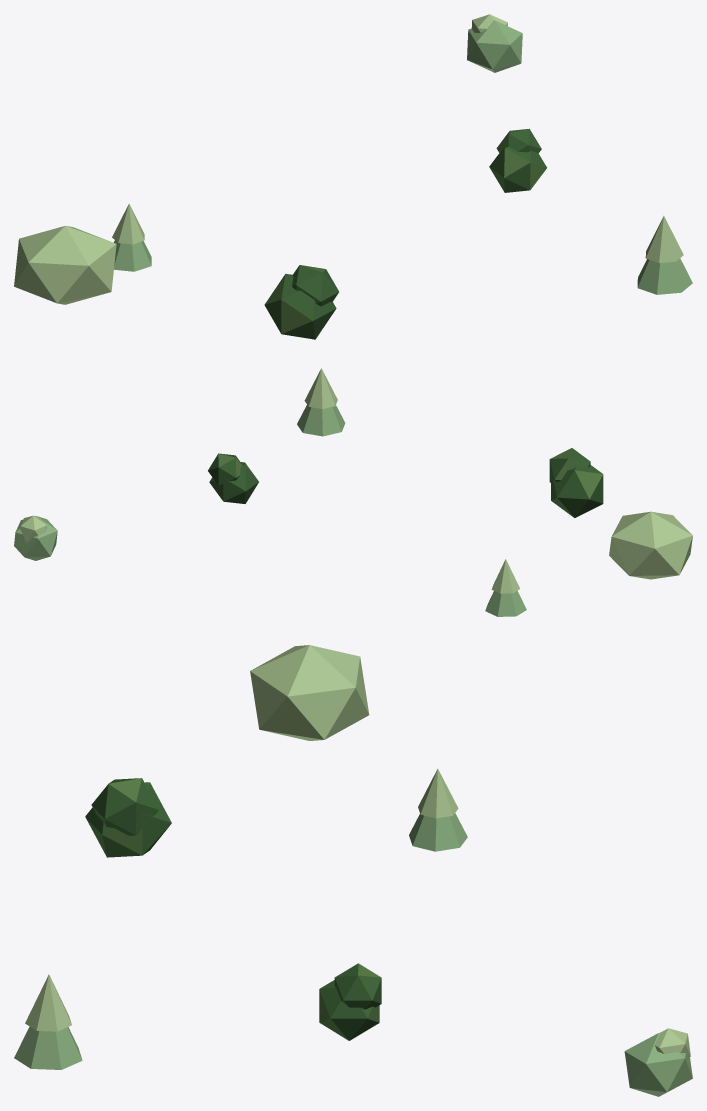
The model's file is side_wardens_clearing_wind_canopies.fbx.
The picture shows the model from 3 angles, top to bottom: view 1: azimuth 30°, elevation 25°; view 2: azimuth 150°, elevation 25°; view 3: azimuth 270°, elevation 25°; orthographic projection. The views are drawn at different scales.
Parts seen in each view (by area): view 1: chunk_side_wardens_clearing__tree_canopy_01, chunk_side_wardens_clearing__detail_scatter_tree_02_canopy, chunk_side_wardens_clearing__detail_scatter_tree_01_canopy, chunk_side_wardens_clearing__tree_canopy_07, chunk_side_wardens_clearing__tree_canopy_04, chunk_side_wardens_clearing__tree_canopy_05, chunk_side_wardens_clearing__tree_canopy_03, chunk_side_wardens_clearing__tree_canopy_02; view 2: chunk_side_wardens_clearing__tree_canopy_01, chunk_side_wardens_clearing__detail_scatter_tree_02_canopy, chunk_side_wardens_clearing__detail_scatter_tree_01_canopy, chunk_side_wardens_clearing__tree_canopy_04, chunk_side_wardens_clearing__tree_canopy_07, chunk_side_wardens_clearing__tree_canopy_03, chunk_side_wardens_clearing__tree_canopy_05, chunk_side_wardens_clearing__tree_canopy_02, chunk_side_wardens_clearing__tree_canopy_06; view 3: chunk_side_wardens_clearing__tree_canopy_01, chunk_side_wardens_clearing__detail_scatter_tree_02_canopy, chunk_side_wardens_clearing__detail_scatter_tree_01_canopy, chunk_side_wardens_clearing__tree_canopy_07, chunk_side_wardens_clearing__tree_canopy_04, chunk_side_wardens_clearing__tree_canopy_03, chunk_side_wardens_clearing__tree_canopy_05, chunk_side_wardens_clearing__tree_canopy_02, chunk_side_wardens_clearing__tree_canopy_06.
Part boxes in pixels (bbox=[...]): chunk_side_wardens_clearing__tree_canopy_01: bbox=[14, 225, 116, 304]; chunk_side_wardens_clearing__detail_scatter_tree_02_canopy: bbox=[264, 265, 338, 339]; chunk_side_wardens_clearing__detail_scatter_tree_01_canopy: bbox=[489, 128, 546, 192]; chunk_side_wardens_clearing__tree_canopy_07: bbox=[467, 20, 522, 72]; chunk_side_wardens_clearing__tree_canopy_04: bbox=[637, 258, 692, 294]; chunk_side_wardens_clearing__tree_canopy_05: bbox=[645, 216, 683, 262]; chunk_side_wardens_clearing__tree_canopy_03: bbox=[113, 240, 151, 271]; chunk_side_wardens_clearing__tree_canopy_02: bbox=[112, 203, 144, 244]; chunk_side_wardens_clearing__tree_canopy_01: bbox=[609, 511, 692, 579]; chunk_side_wardens_clearing__detail_scatter_tree_02_canopy: bbox=[549, 448, 603, 517]; chunk_side_wardens_clearing__detail_scatter_tree_01_canopy: bbox=[208, 453, 258, 503]; chunk_side_wardens_clearing__tree_canopy_04: bbox=[297, 405, 345, 436]; chunk_side_wardens_clearing__tree_canopy_07: bbox=[14, 516, 57, 560]; chunk_side_wardens_clearing__tree_canopy_03: bbox=[485, 590, 526, 616]; chunk_side_wardens_clearing__tree_canopy_05: bbox=[304, 368, 337, 408]; chunk_side_wardens_clearing__tree_canopy_02: bbox=[491, 559, 519, 593]; chunk_side_wardens_clearing__tree_canopy_06: bbox=[20, 515, 46, 542]; chunk_side_wardens_clearing__tree_canopy_01: bbox=[250, 645, 369, 740]; chunk_side_wardens_clearing__detail_scatter_tree_02_canopy: bbox=[85, 778, 171, 857]; chunk_side_wardens_clearing__detail_scatter_tree_01_canopy: bbox=[319, 963, 381, 1040]; chunk_side_wardens_clearing__tree_canopy_07: bbox=[624, 1033, 692, 1096]; chunk_side_wardens_clearing__tree_canopy_04: bbox=[14, 1026, 82, 1069]; chunk_side_wardens_clearing__tree_canopy_03: bbox=[409, 813, 467, 851]; chunk_side_wardens_clearing__tree_canopy_05: bbox=[25, 974, 71, 1031]; chunk_side_wardens_clearing__tree_canopy_02: bbox=[418, 768, 458, 818]; chunk_side_wardens_clearing__tree_canopy_06: bbox=[655, 1028, 690, 1057].
Size of the model in its own units: 203 by 31.18 by 154.
